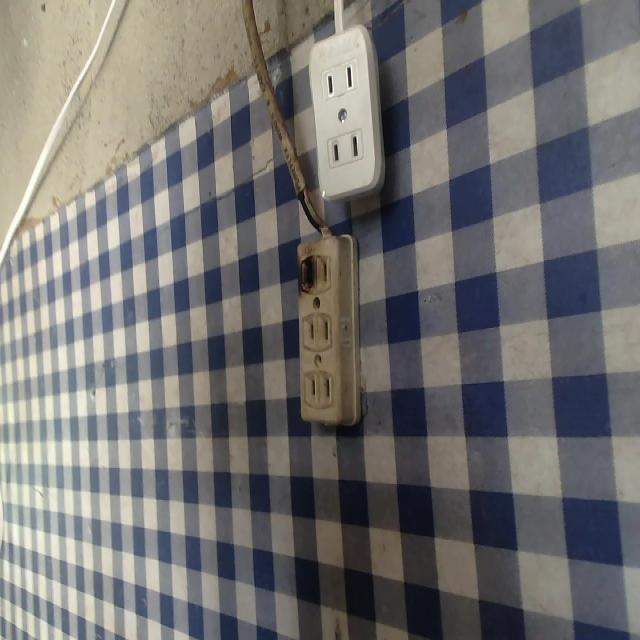-: (295, 250, 318, 294)
